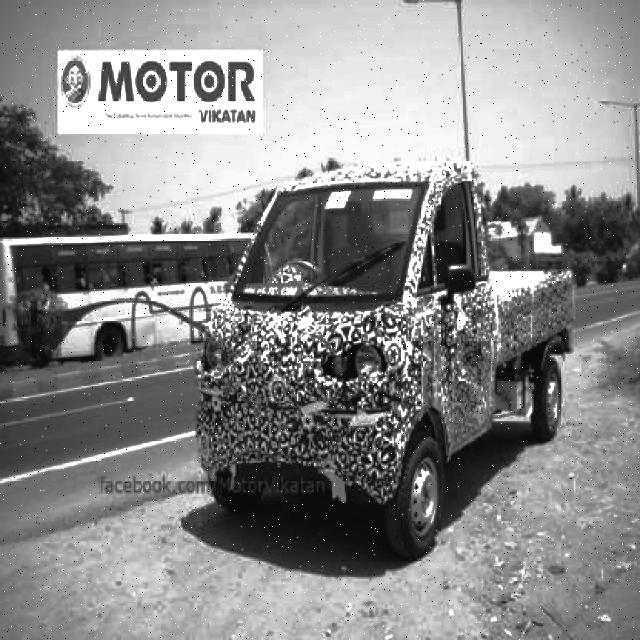LCV: (217, 183, 591, 566)
